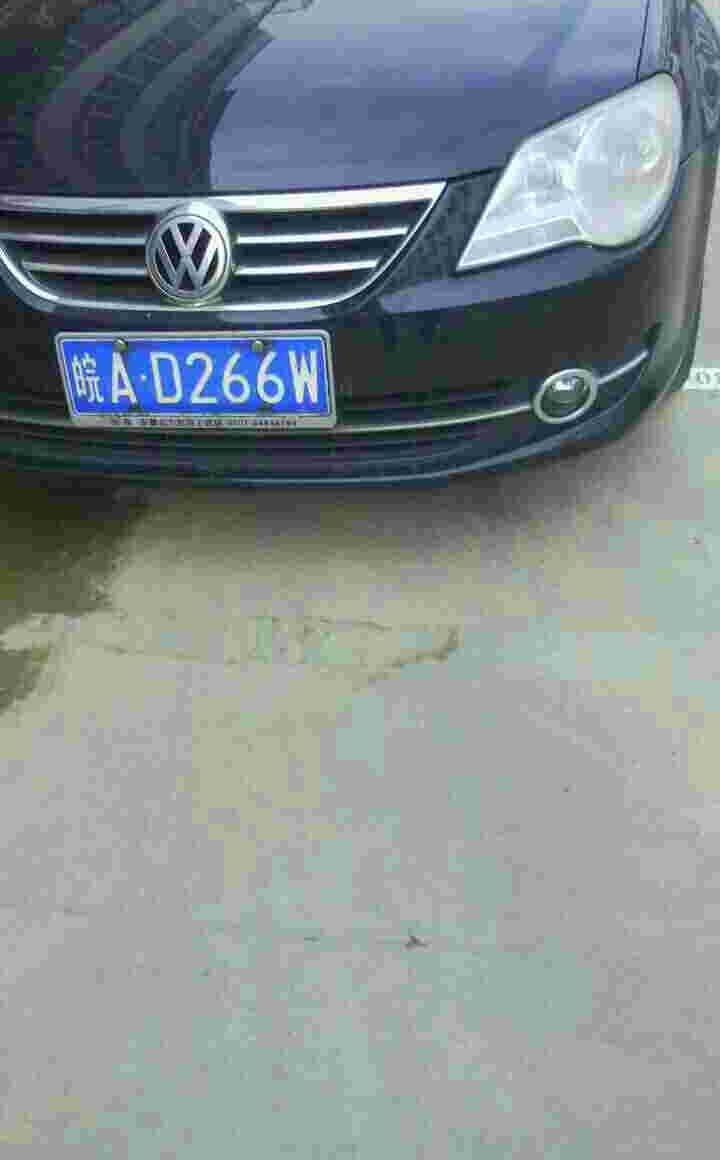license_plate: (52, 338, 332, 419)
